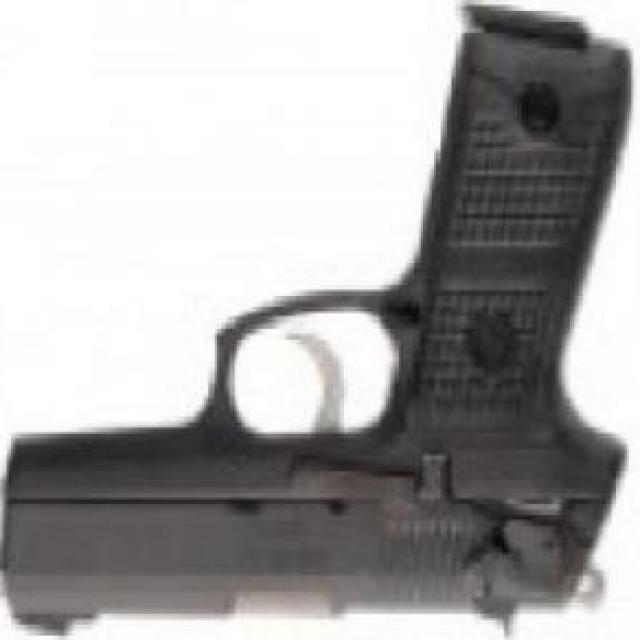pistol: (4, 15, 637, 640)
